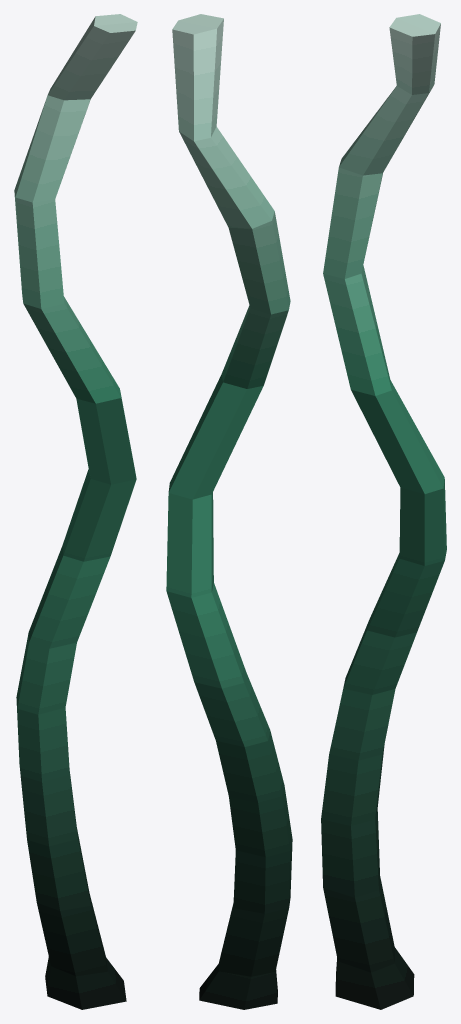
The model's file is sm_twistedtreetrunk1.glb.
The picture shows the model from 3 angles, left to right: view 1: azimuth 30°, elevation 25°; view 2: azimuth 150°, elevation 25°; view 3: azimuth 330°, elevation 25°; orthographic projection.
Visible parts, largest first — view 1: TwistedTreeTrunk-convcol; view 2: TwistedTreeTrunk-convcol; view 3: TwistedTreeTrunk-convcol.
Boxes of the visible parts, box(x1,y1,x2,y2) form: TwistedTreeTrunk-convcol: box(14, 14, 137, 1009); TwistedTreeTrunk-convcol: box(166, 14, 292, 1009); TwistedTreeTrunk-convcol: box(321, 14, 446, 1009).
Bounding box in the file's own units: 5.2 × 41.66 × 4.5.
1 material, 1 textured.
